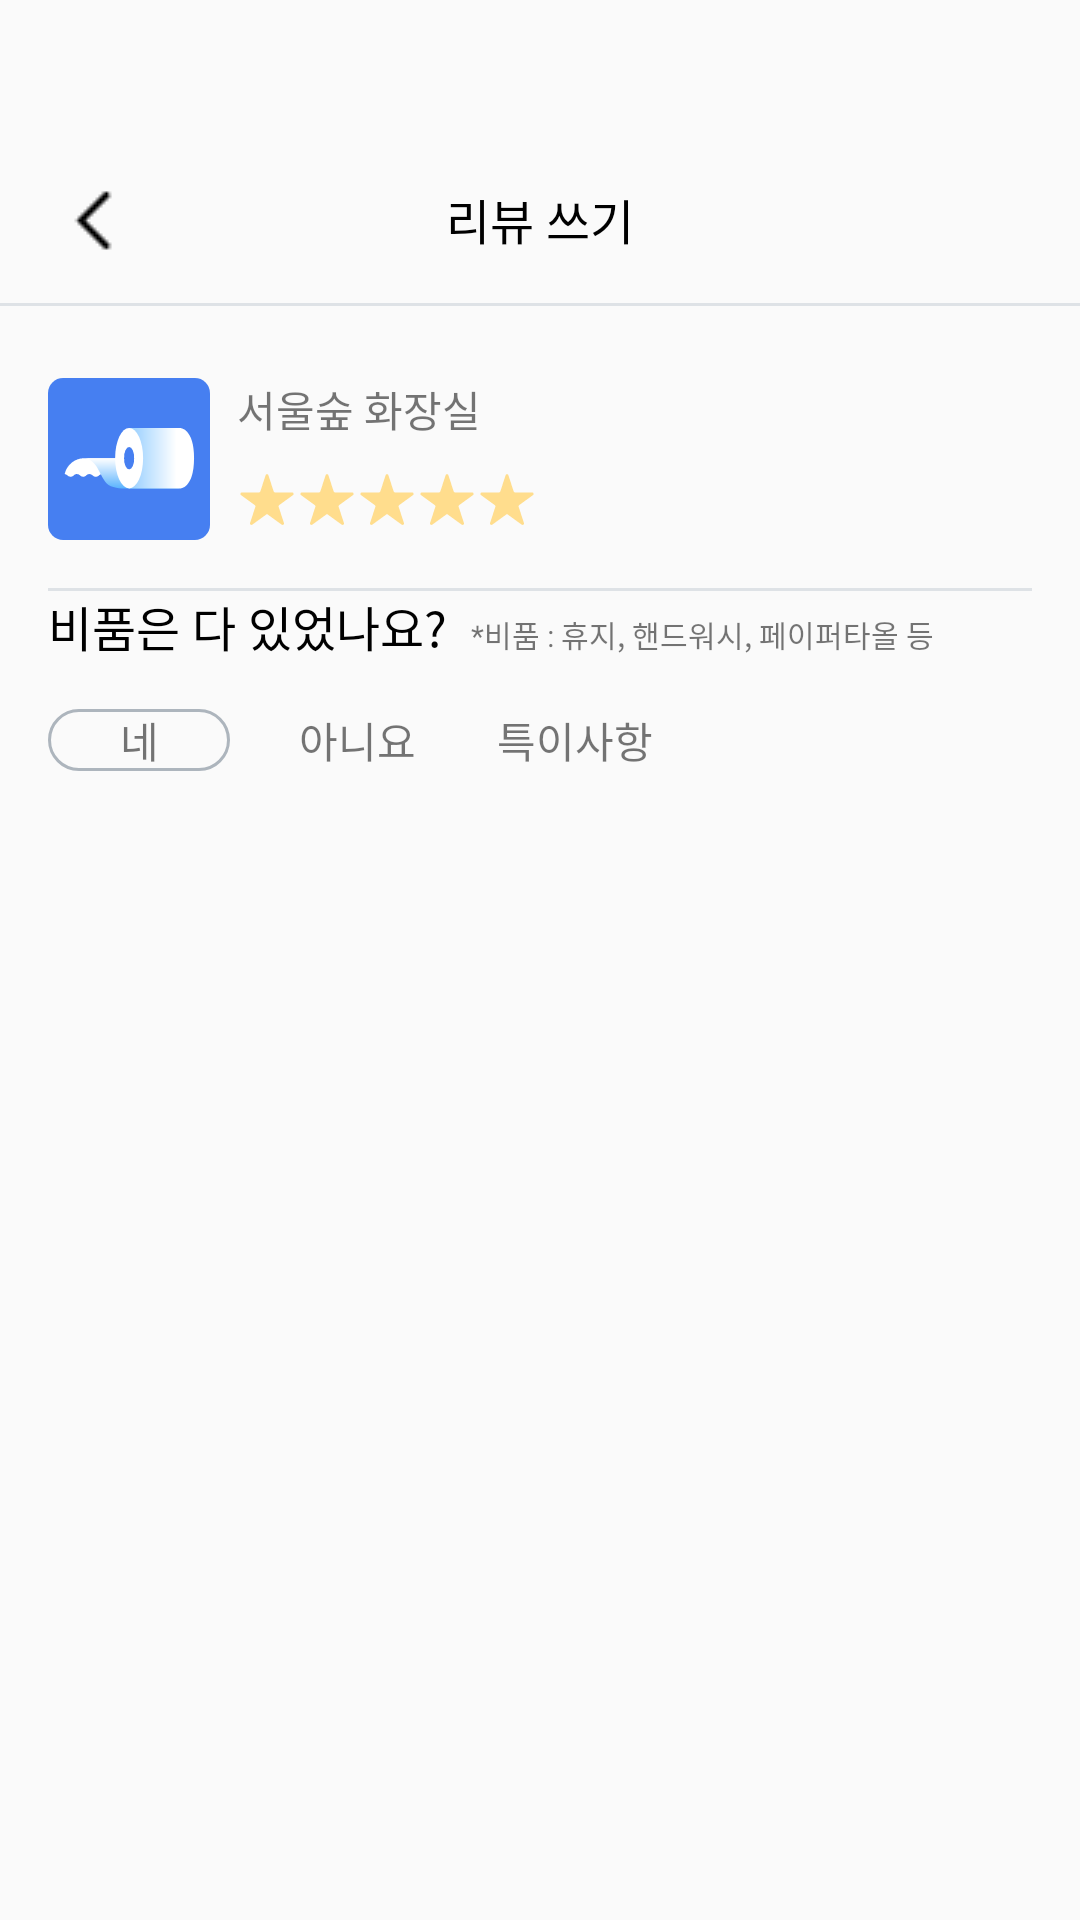

Icons on this 1080px×1920px Android screen, each with the point to tap as (x,y):
back usage: (93,220)
star score: (267,499), (327,499), (387,499), (447,499), (507,499)
